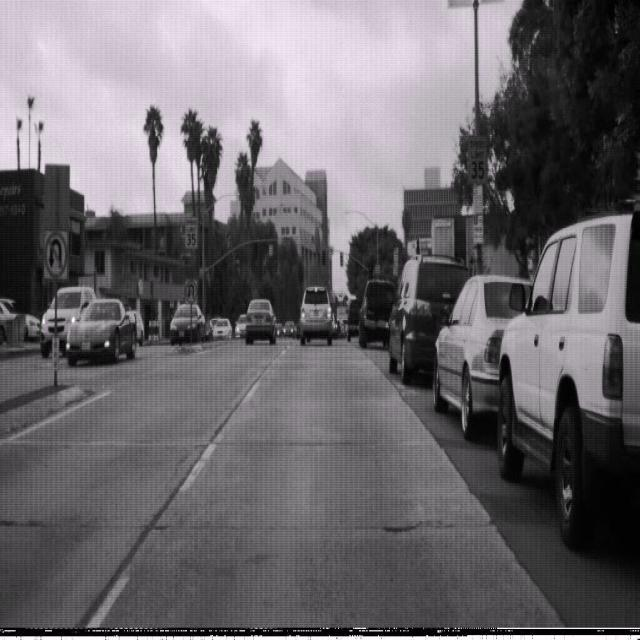speedLimit35: (467, 134, 488, 184), (184, 215, 198, 250)
